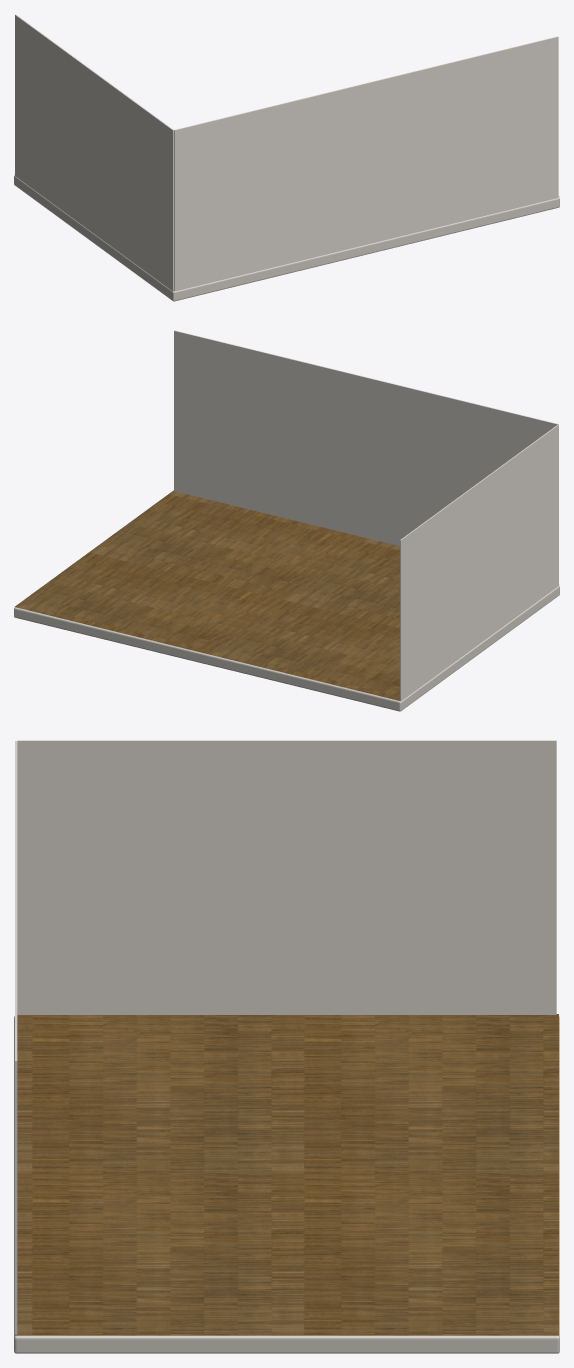
File: livingroom-structure.glb
3 renders of one model, top to bottom at view 1: azimuth 30°, elevation 25°; view 2: azimuth 150°, elevation 25°; view 3: azimuth 270°, elevation 25°, orthographic. The views are drawn at different scales.
Parts seen in each view (by area): view 1: wall_north_01, wall_east_01, Display foundation; view 2: wall_north_01, floor_01, wall_east_01, Display foundation; view 3: floor_01, wall_east_01, Display foundation, wall_north_01.
Part boxes in pixels (x1,y1,x2,y2): wall_north_01: (174, 36, 558, 291); wall_east_01: (15, 14, 173, 291); Display foundation: (14, 175, 559, 301); wall_north_01: (174, 330, 558, 546); floor_01: (15, 490, 400, 700); wall_east_01: (400, 424, 558, 701); Display foundation: (14, 585, 559, 711); floor_01: (15, 1014, 558, 1335); wall_east_01: (17, 740, 556, 1014); Display foundation: (14, 1016, 559, 1353); wall_north_01: (15, 741, 17, 1335).
Size of the model in its own units: 7.02 by 2.96 by 5.02.
Materials: 3 (1 with a texture image).
